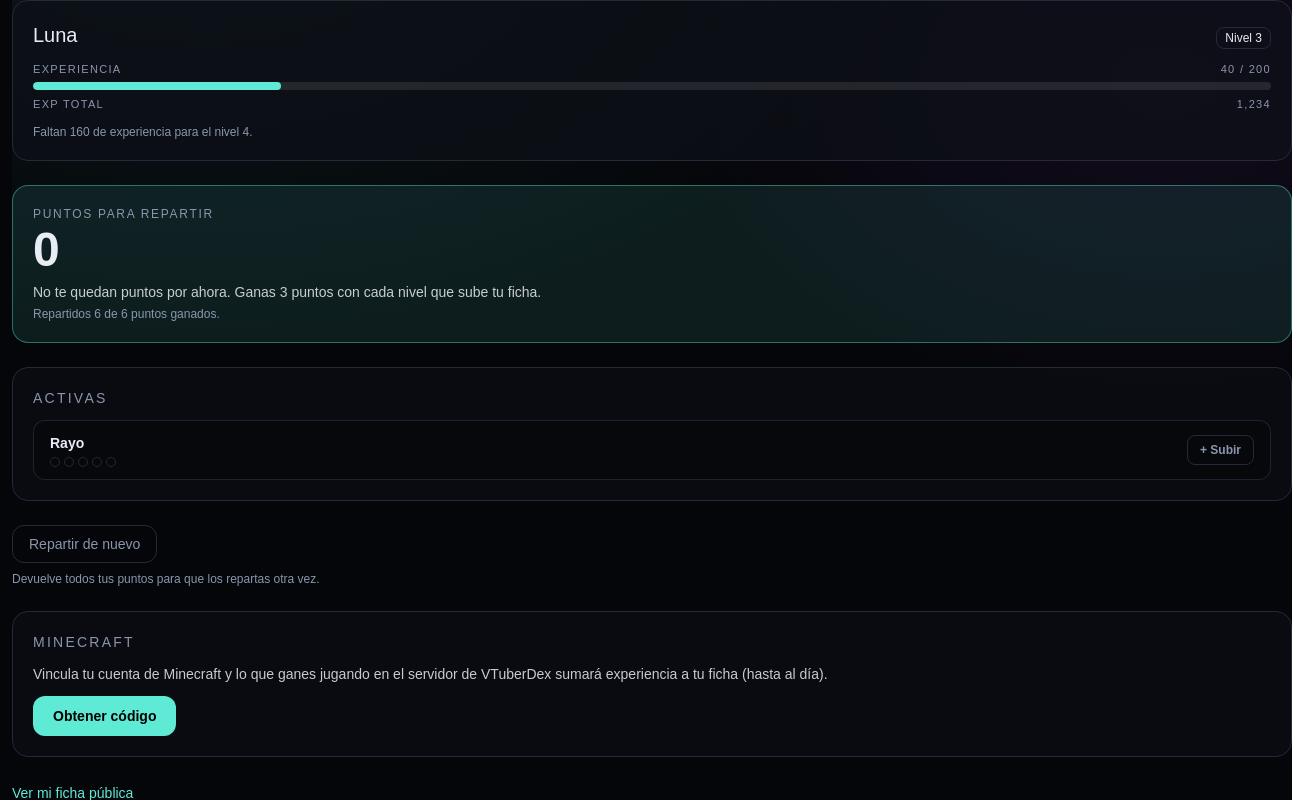
Test: MiFicha › Minecraft: pide el código, lo muestra con el comando y deja desvincular
The width and height of the screenshot is (1292, 800).
Click the button "Obtener código" at (105, 716), box [33,696,176,736]
(page scrolled)
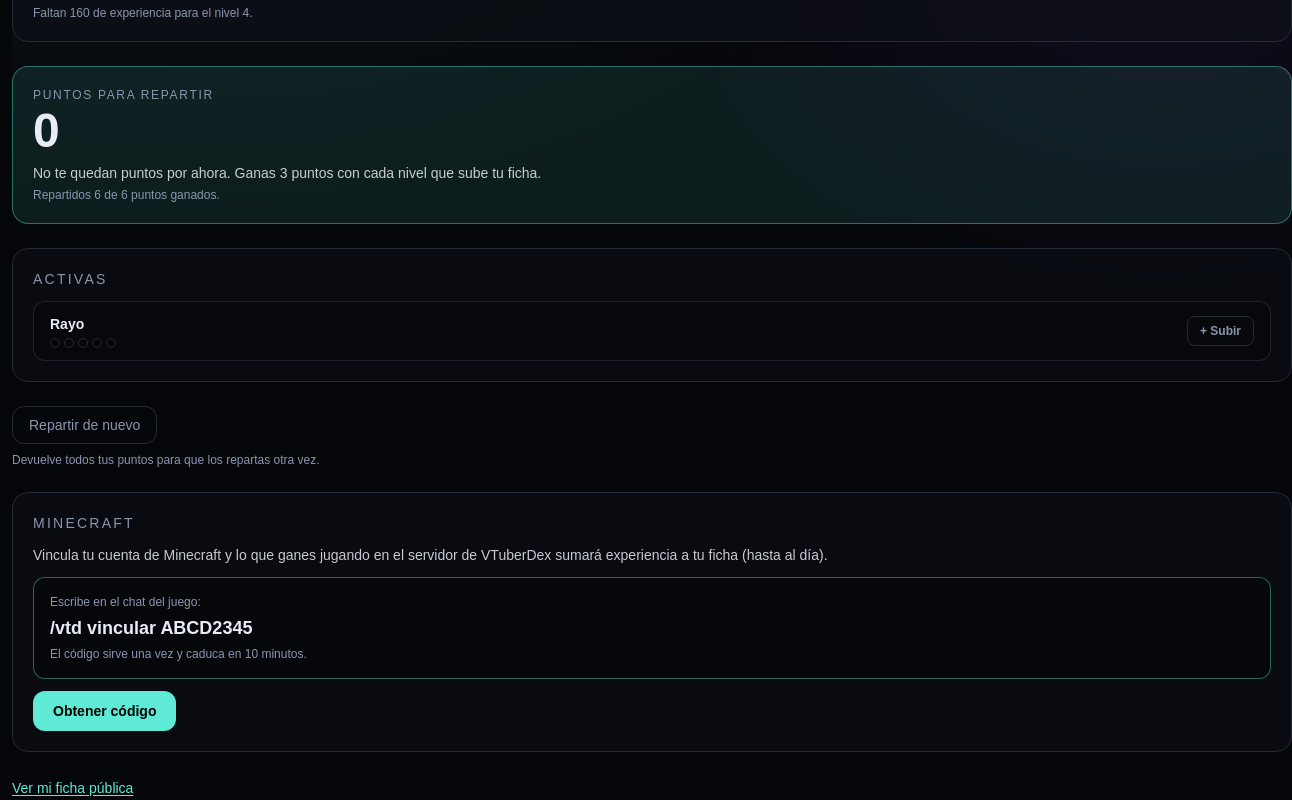
Now the text with test id "mificha-minecraft-codigo" reads "/vtd vincular ABCD2345", box [50,618,252,638]
Click the button "Obtener código" at (105, 711), box [33,691,176,731]
(page scrolled)
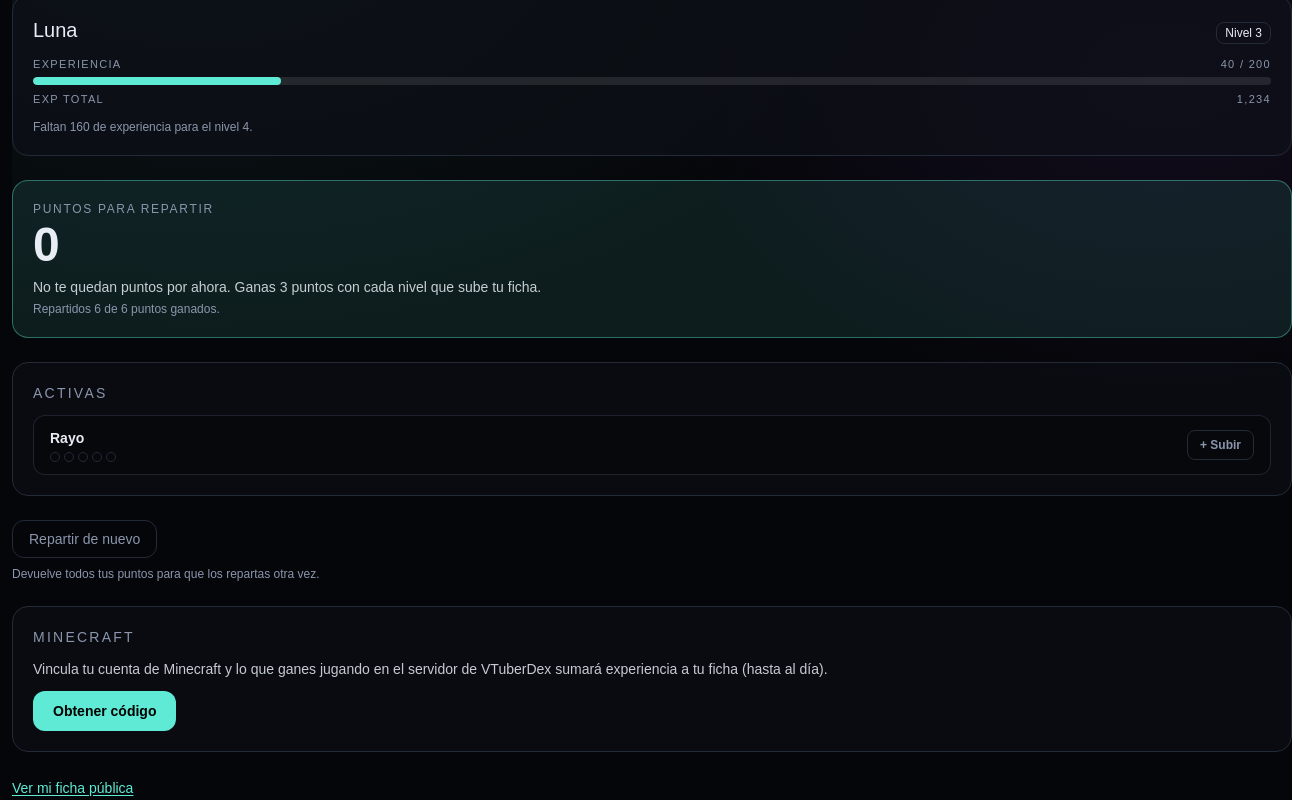
Now the text with test id "mificha-minecraft-codigo" is gone
